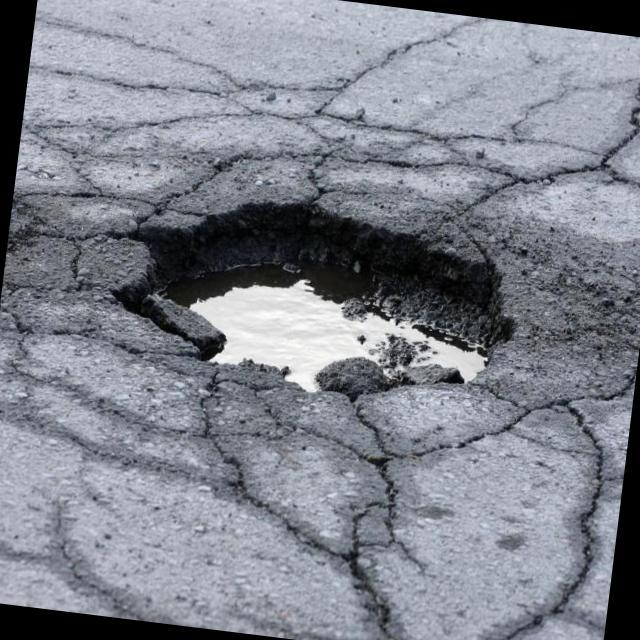Pothole: (112, 199, 512, 402)
